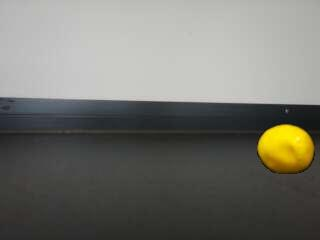Lemon: (256, 123, 316, 175)
